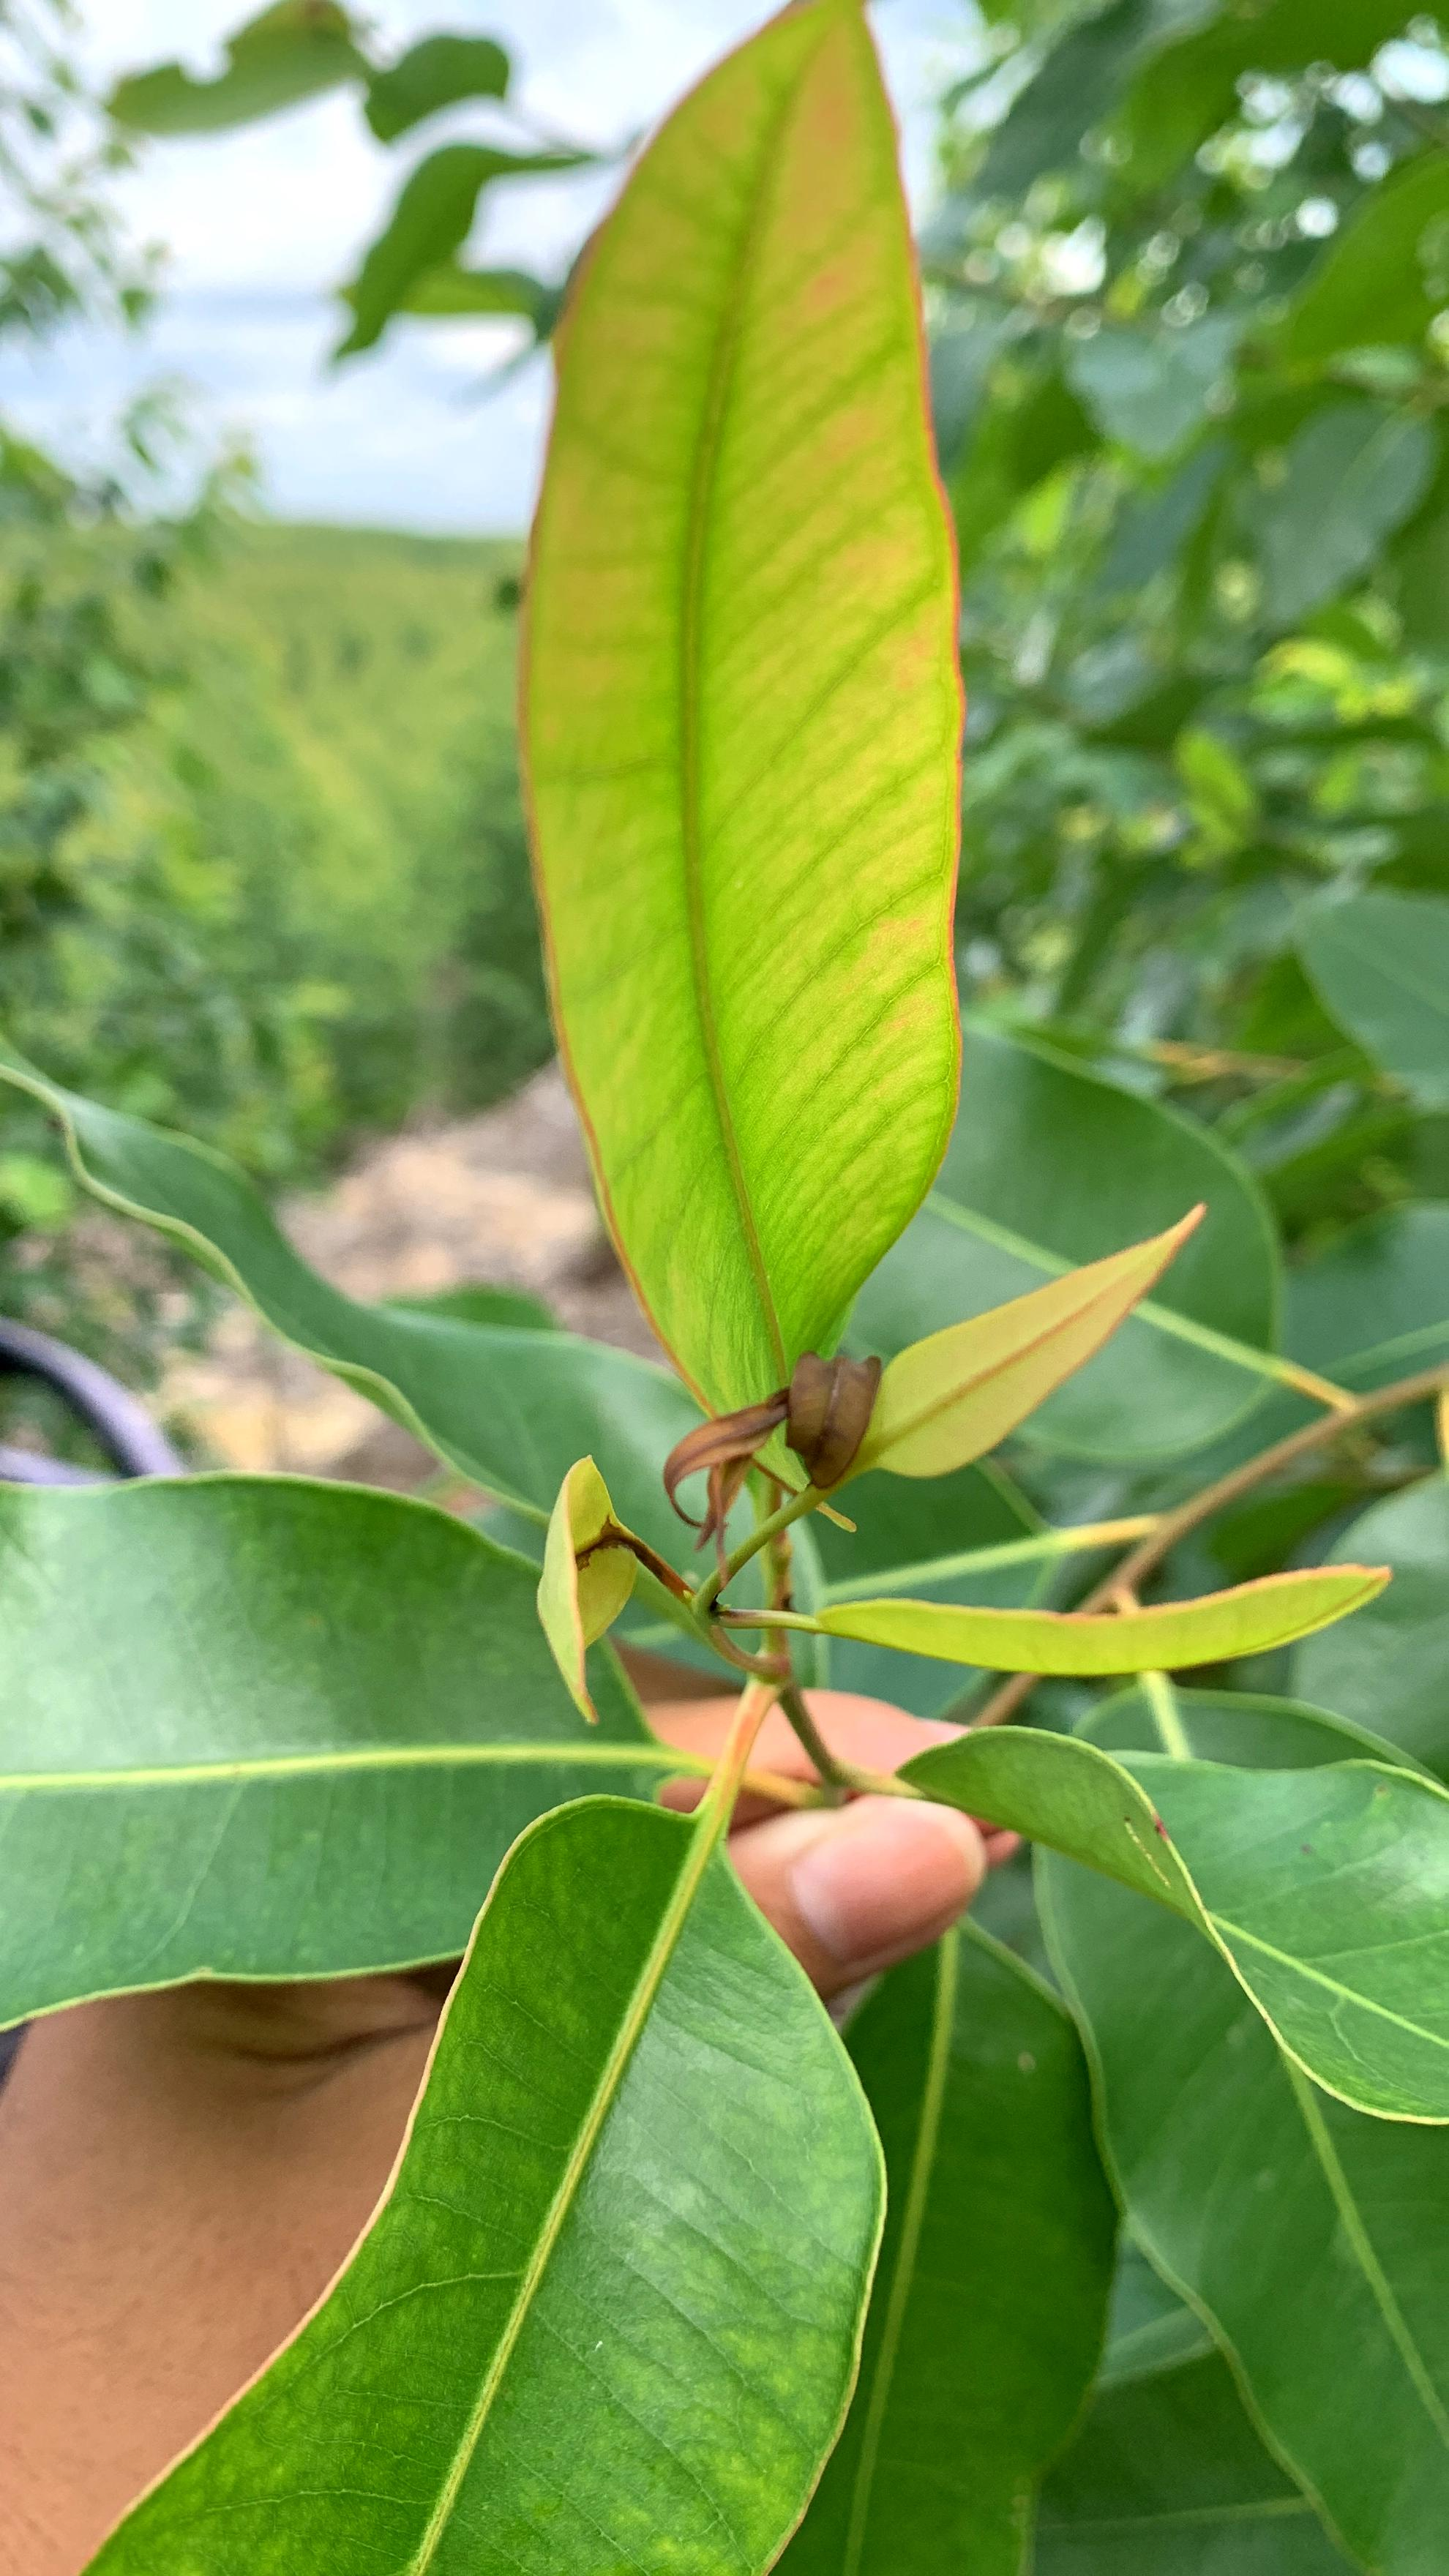Helopeltis-Withered Sprout: (605, 1304, 924, 1599)
